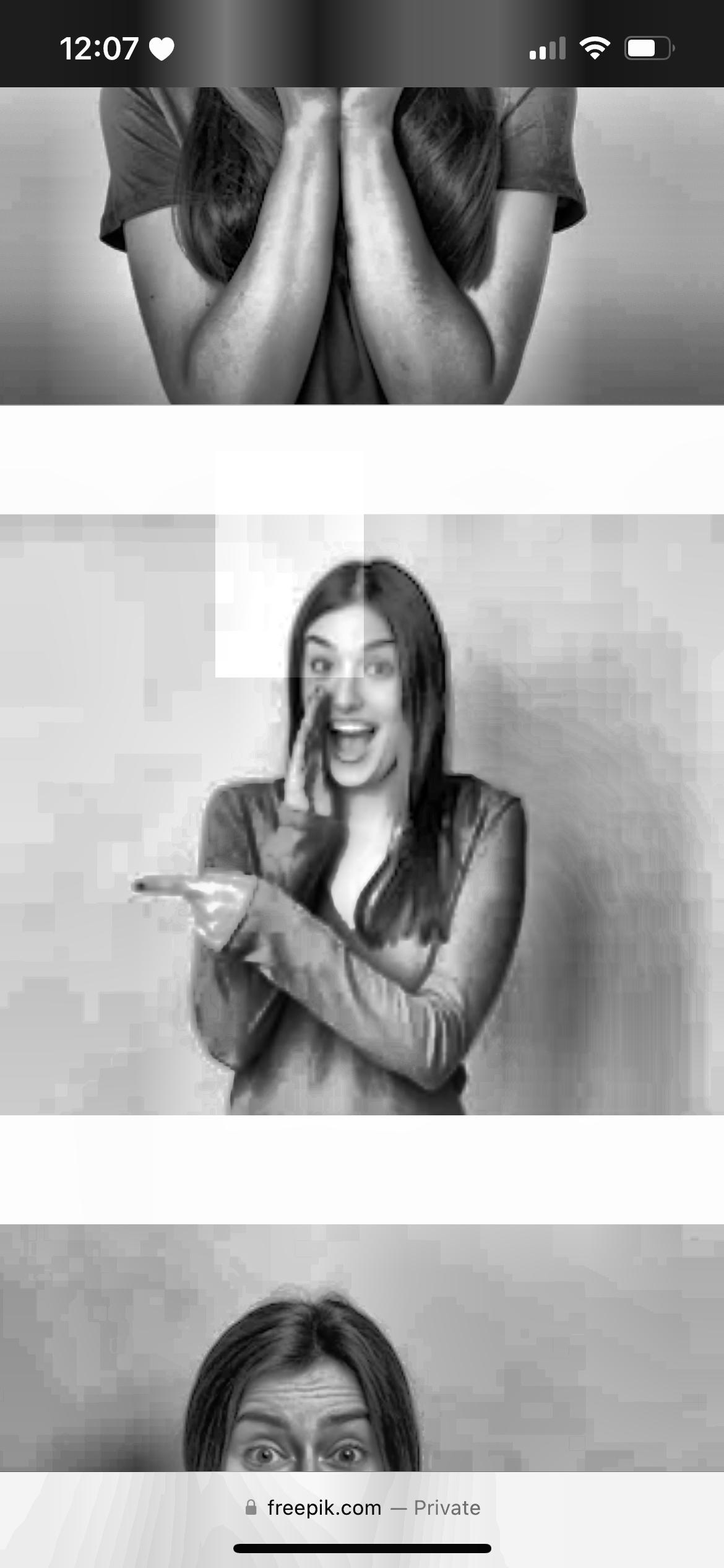surprised: (267, 557, 450, 838)
